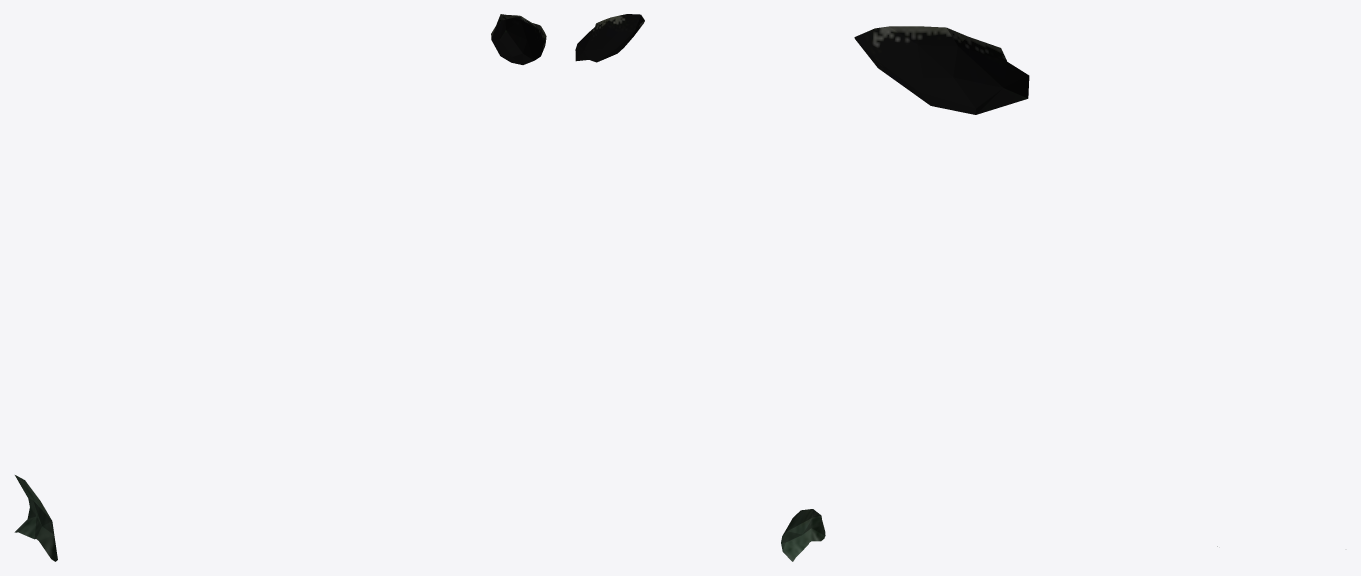
3 renders of one model, left to right at view 1: azimuth 30°, elevation 25°; view 2: azimuth 150°, elevation 25°; view 3: azimuth 270°, elevation 25°, orthographic. The views are drawn at different scales.
Size of the model in its own units: 4.39 by 5.43 by 3.1.
1 material, 1 textured.
